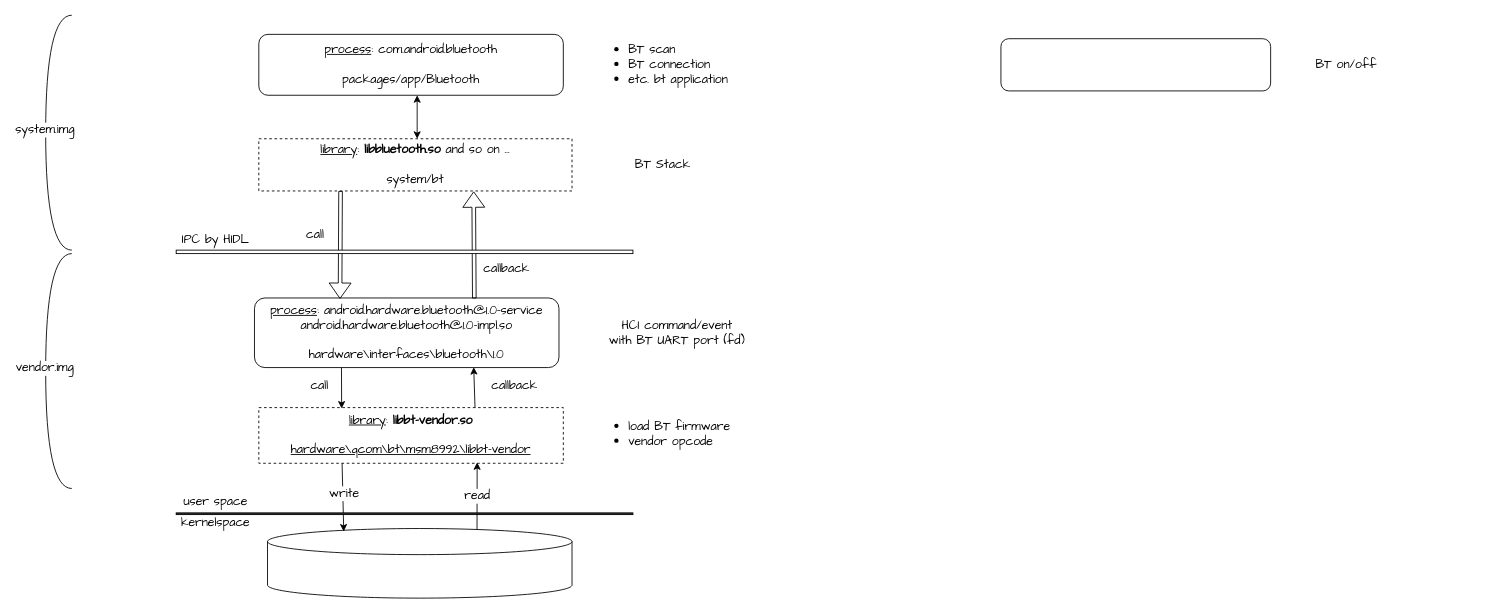
The diagram is 1500 pixels wide and 613 high, and some of its shapes have lost their labels. The shapes that lost their labels are listed below. From the top down, each one's box as (x1, y1, x2, y2) in pixels, then its label:
(1000, 38, 1271, 91): process : system_server frameworks/base
(267, 528, 572, 598): BT HW UART port e.g. /dev/ttymxc0
